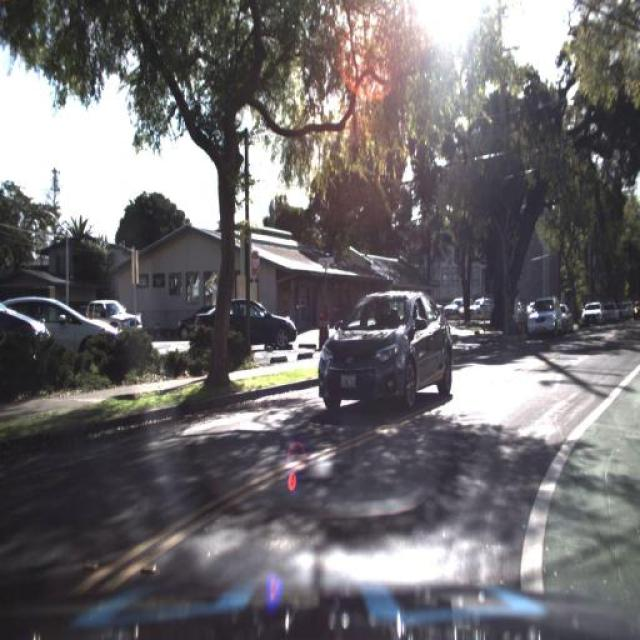car: (316, 282, 455, 408), (0, 291, 122, 369), (194, 298, 294, 351), (90, 289, 149, 340), (80, 297, 146, 338), (524, 294, 560, 342), (578, 298, 606, 330), (557, 294, 575, 334), (598, 298, 620, 328), (619, 296, 636, 328), (630, 298, 640, 328)
